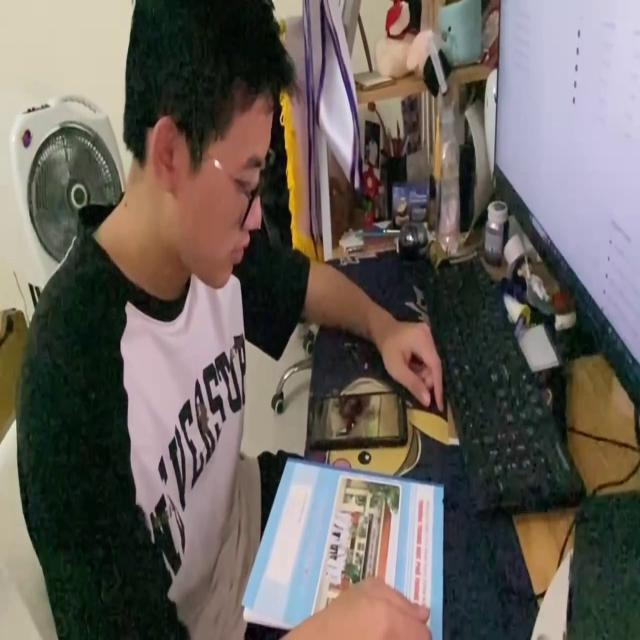book: (238, 457, 448, 640)
laptop: (492, 0, 640, 411)
phone: (301, 386, 411, 452)
student: (11, 0, 445, 640)
